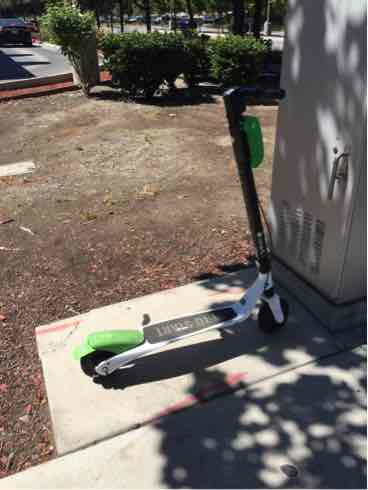scooter: (69, 73, 293, 389)
